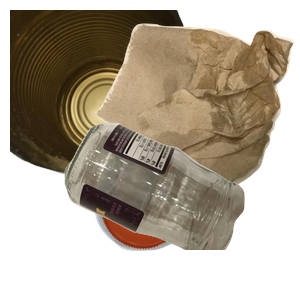glass: (62, 120, 300, 300)
metal: (10, 10, 200, 180)
plastic: (91, 152, 281, 300)
trash: (92, 21, 300, 201)
